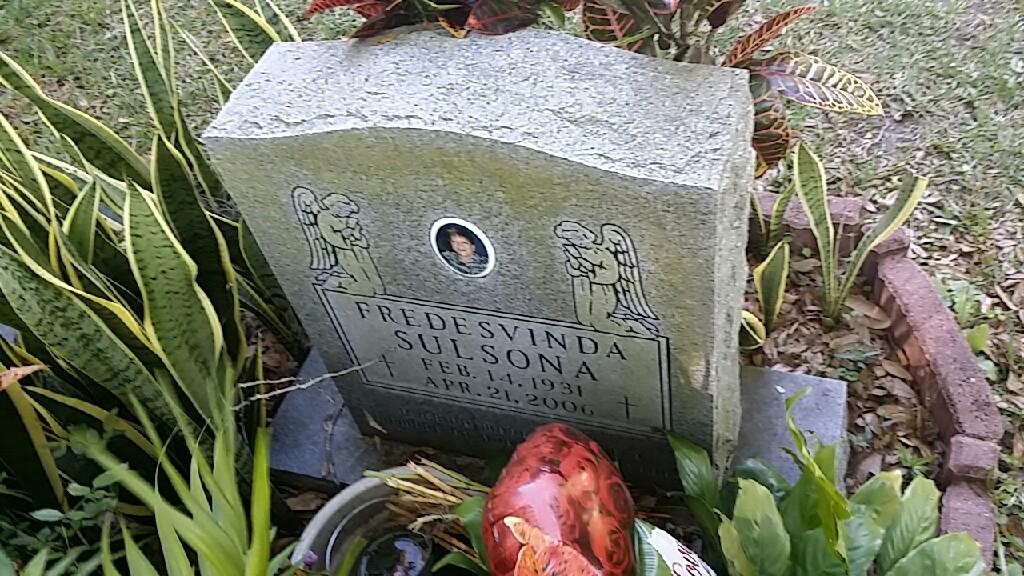upright: (176, 32, 865, 535)
